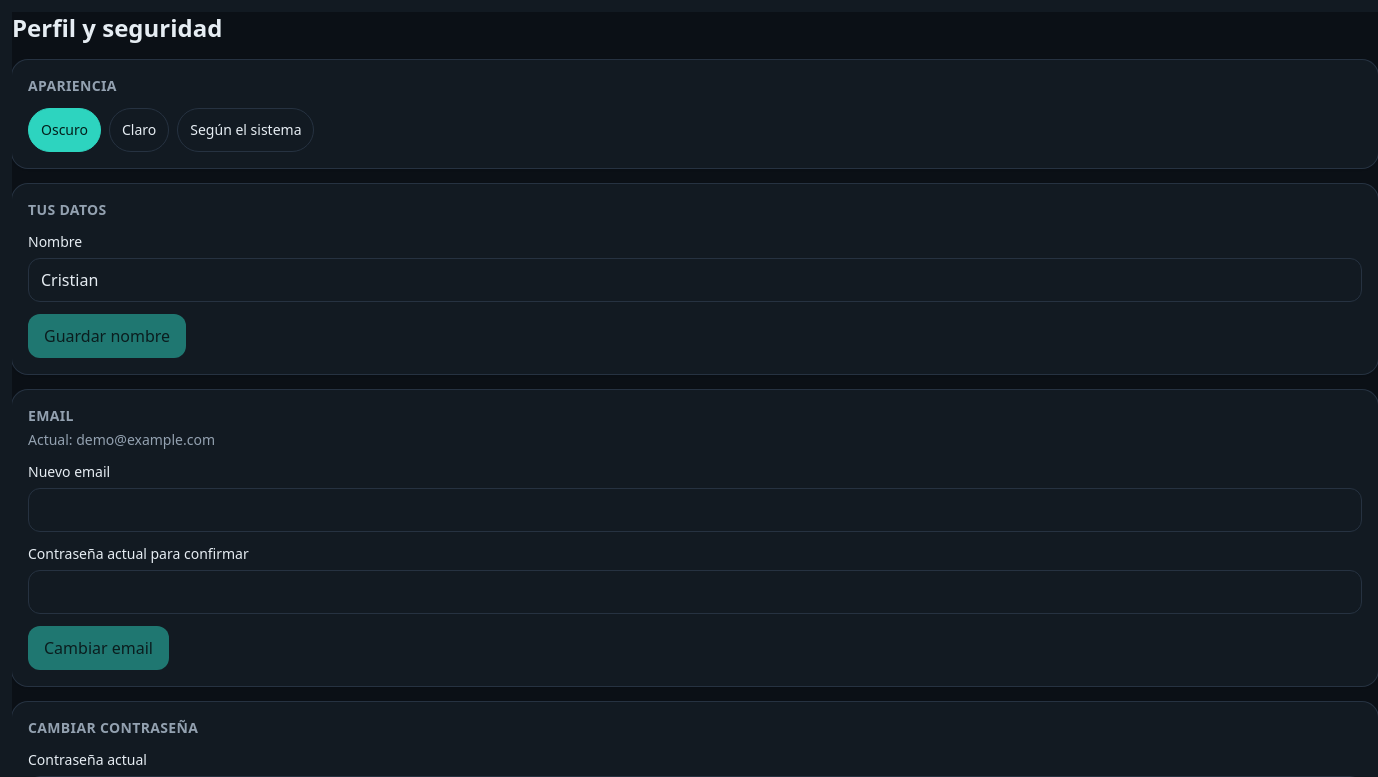
Test: ProfilePage — account › shows the wrong password under its field
Type "nuevo@correo.co" into the field labelled "Nuevo email".
click(695, 510); type("nuevo@correo.co")  # box [28,488,1362,532]
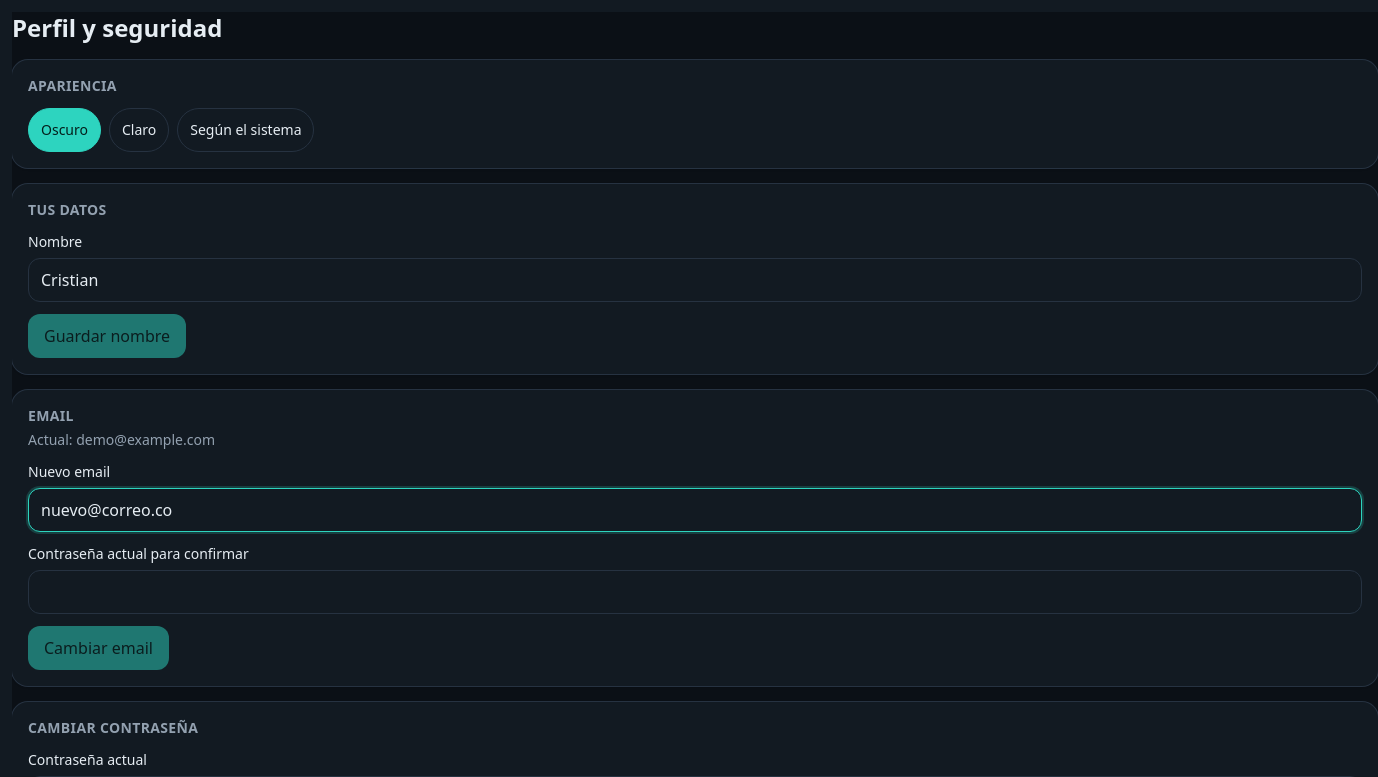
Type "mala" into the password field labelled "Contraseña actual para confirmar".
click(695, 592); type("mala")  # box [28,570,1362,614]
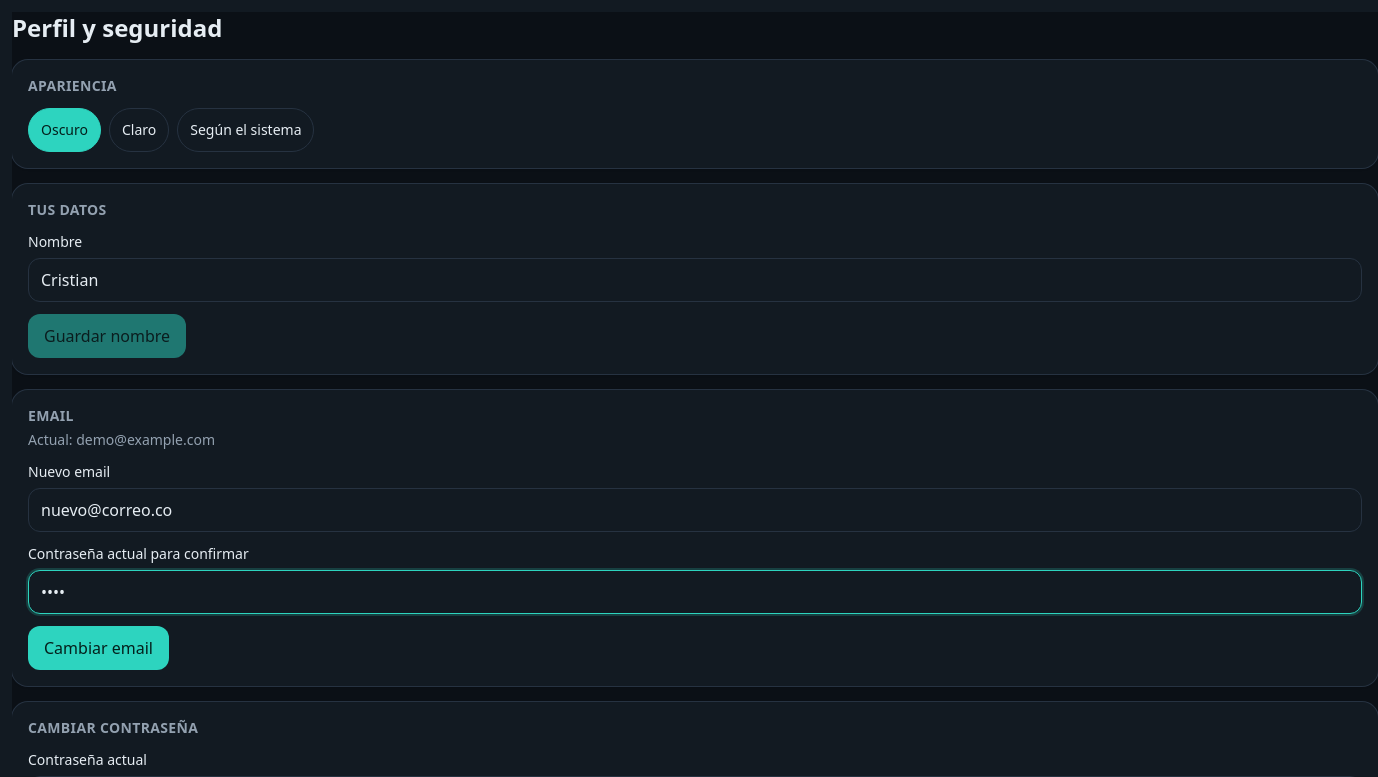
Click the button "Cambiar email".
click(98, 648)  # box [28,626,169,670]
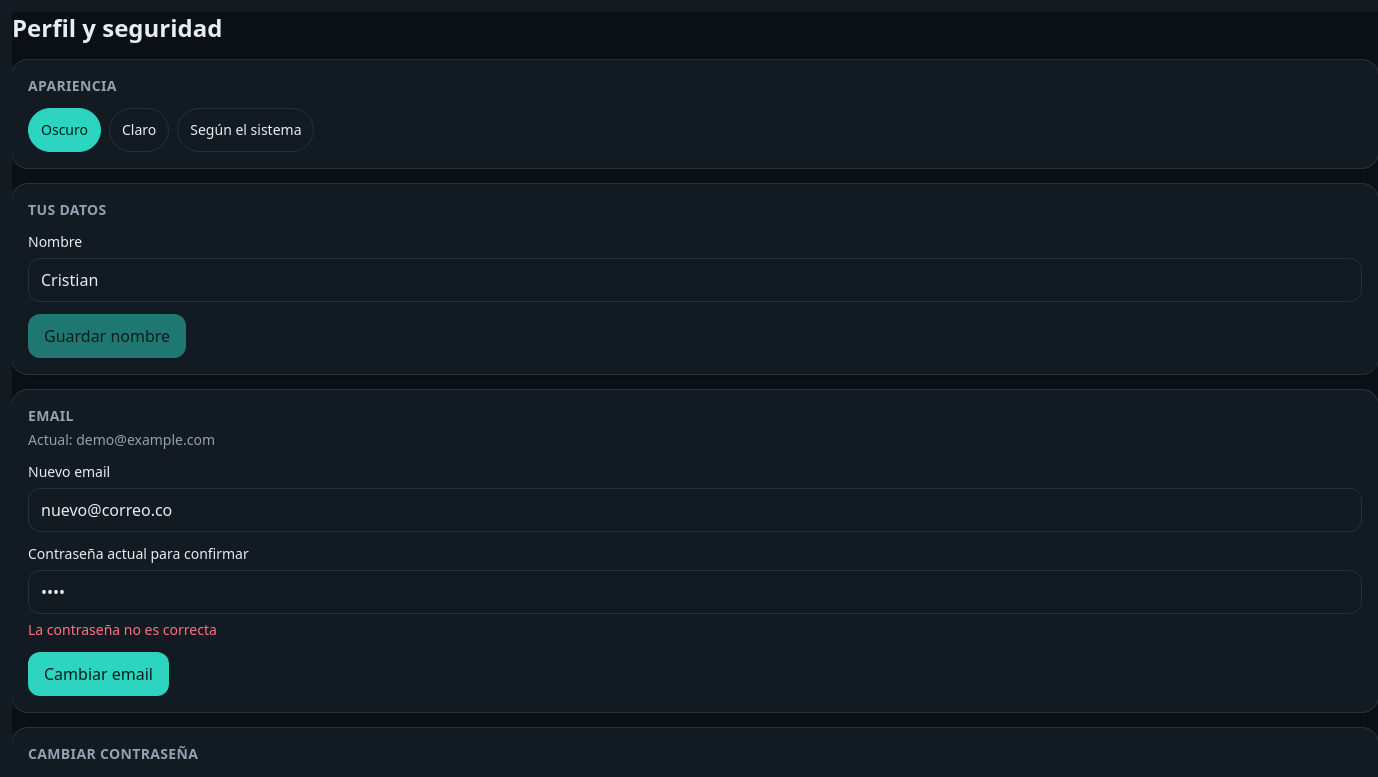
Now the text "La contraseña no es correcta" is shown, box [28,620,217,639]
